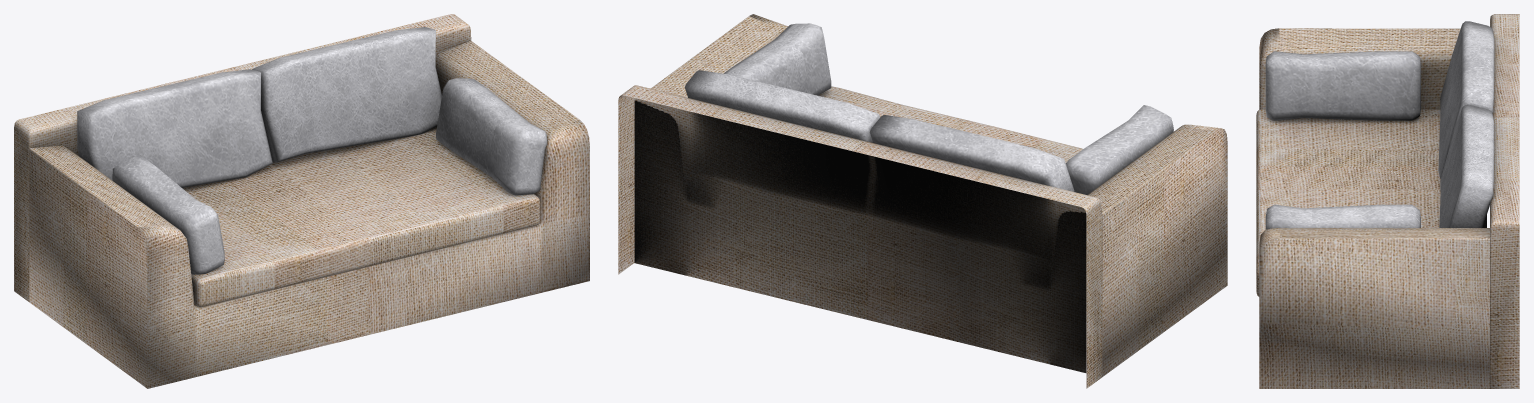
The model's file is Sofa.fbx.
3 renders of one model, left to right at view 1: azimuth 30°, elevation 25°; view 2: azimuth 150°, elevation 25°; view 3: azimuth 270°, elevation 25°, orthographic. The views are drawn at different scales.
Parts seen in each view (by area): view 1: Box001; view 2: Box001; view 3: Box001.
Part boxes in pixels (x1,y1,x2,y2): Box001: (14,14,589,388); Box001: (618,14,1227,388); Box001: (1256,14,1519,388).
Bounding box in the file's own units: 88.25 × 36.07 × 46.65.
1 material, 1 textured.
